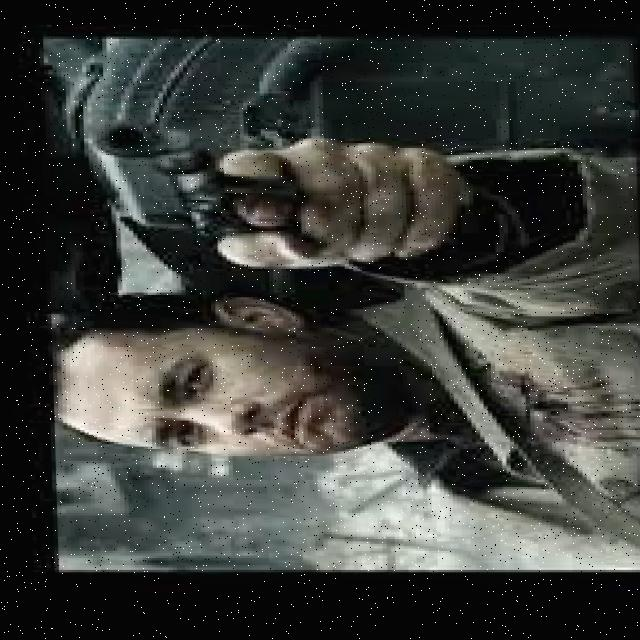pistol: (83, 120, 311, 234)
